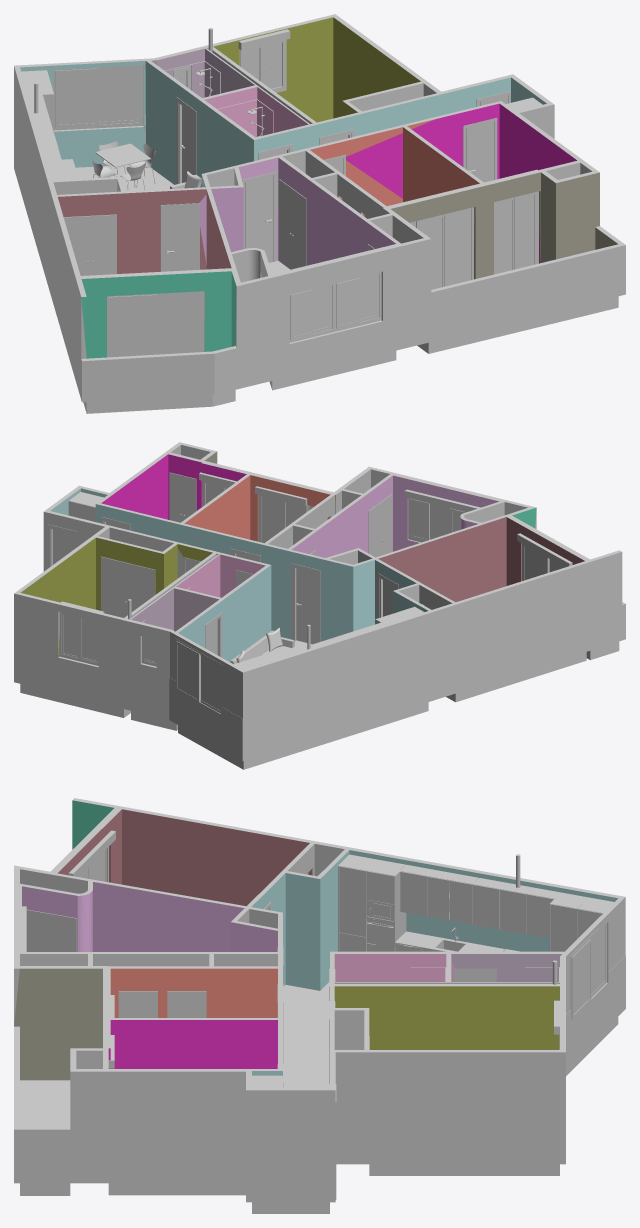
File: temp_1754389292020_demo.glb
The picture shows the model from 3 angles, top to bottom: view 1: azimuth 30°, elevation 25°; view 2: azimuth 150°, elevation 25°; view 3: azimuth 270°, elevation 25°; orthographic projection. The views are drawn at different scales.
Parts seen in each view (by area): view 1: Muro básico E. Existente - 12 cm [6806284].001, Room_5, Muro básico E. Existente - 12 cm [6827477].001, Room_2, Room_8, Muro básico E. Existente - 12 cm [6815890].001, Room_9, Room_1, Room_4, Muro básico E. Existente - 12 cm [6806460].001, Room_0, Ventana de 2 hojas correderas con persiana 217 x 205 cm_03f9 (+31 smaller); view 2: Muro básico E. Existente - 12 cm [6815890].001, Room_5, Muro básico E. Existente - 12 cm [6810551].001, Room_4, Room_8, Room_1, Suelo Porcelánico [6835111], Muro básico E. Existente - 12 cm [6813315].001, Room_9, Room_3, Muro básico E. Existente - 12 cm [6827155].001, Ventana de 2 hojas correderas sin persiana1 200 x 150 c_437b (+29 smaller); view 3: Muro básico E. Existente - 12 cm [6805299].001, Muro básico E. Existente - 12 cm [6806102].001, Room_4, Room_8, Room_1, Room_5, Suelo Porcelánico [6835111], Muro básico E. Existente - 12 cm [6805627].001, Room_2, Room_9, Room_3, Muro básico E. Existente - 12 cm [6827413].001 (+39 smaller).
Part boxes in pixels (x1,y1,x2,y2): Muro básico E. Existente - 12 cm [6806284].001: (235,237,431,389); Room_5: (20,60,546,187); Muro básico E. Existente - 12 cm [6827477].001: (431,244,621,341); Room_2: (391,172,617,279); Room_8: (213,17,420,122); Muro básico E. Existente - 12 cm [6815890].001: (14,65,80,378); Room_9: (346,103,576,263); Room_1: (199,157,395,265); Room_4: (58,189,231,273); Muro básico E. Existente - 12 cm [6806460].001: (81,350,226,402); Room_0: (81,271,236,358); Ventana de 2 hojas correderas con persiana 217 x 205 cm_03f9: (107,291,204,357); Muro básico E. Existente - 12 cm [6815890].001: (240,560,589,761); Room_5: (50,488,427,661); Muro básico E. Existente - 12 cm [6810551].001: (18,593,123,708); Room_4: (378,517,584,602); Room_8: (20,537,212,657); Room_1: (291,475,499,557); Suelo Porcelánico [6835111]: (20,640,586,769); Muro básico E. Existente - 12 cm [6813315].001: (125,619,178,719); Room_9: (101,454,246,519); Room_3: (184,475,335,541); Muro básico E. Existente - 12 cm [6827155].001: (590,550,622,649); Ventana de 2 hojas correderas sin persiana1 200 x 150 c_437b: (175,638,222,717); Muro básico E. Existente - 12 cm [6805299].001: (330,1050,565,1164); Muro básico E. Existente - 12 cm [6806102].001: (76,1069,245,1183); Room_4: (57,809,312,906); Room_8: (334,986,559,1049); Room_1: (22,882,277,951); Room_5: (251,850,617,1075); Suelo Porcelánico [6835111]: (108,982,618,1213); Muro básico E. Existente - 12 cm [6805627].001: (246,1088,329,1202); Room_2: (14,968,102,1080); Room_9: (108,1020,277,1068); Room_3: (110,968,277,1017); Muro básico E. Existente - 12 cm [6827413].001: (14,1127,70,1183).
Size of the model in its own units: 14.06 by 3.45 by 12.4.
